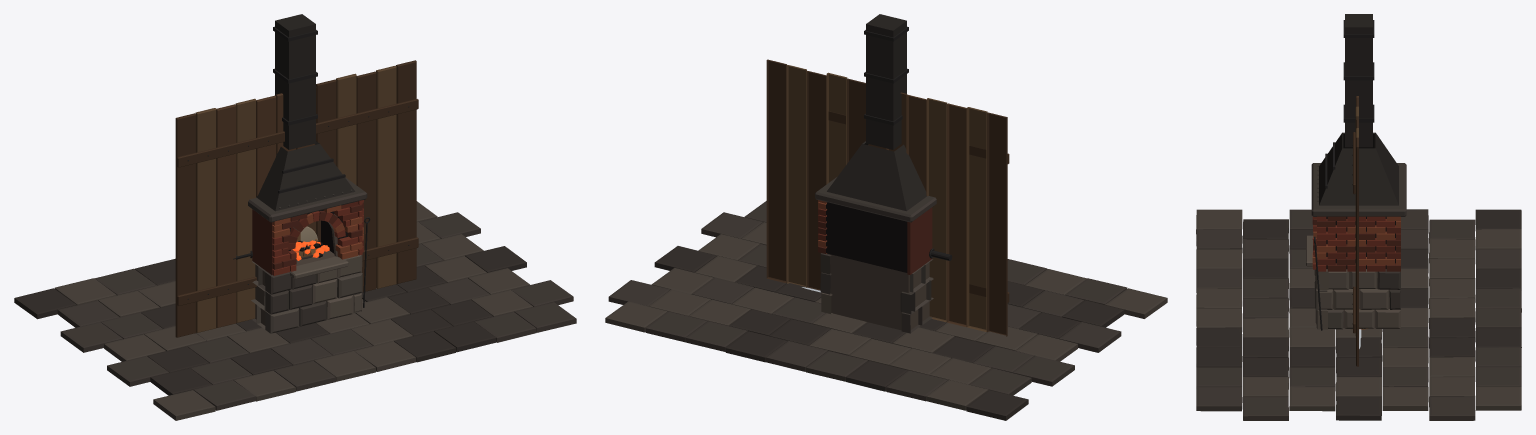
The model's file is forja.glb.
The picture shows the model from 3 angles, left to right: view 1: azimuth 30°, elevation 25°; view 2: azimuth 150°, elevation 25°; view 3: azimuth 270°, elevation 25°; orthographic projection.
Parts seen in each view (by area): view 1: Suelo, Pared, Fragua; view 2: Suelo, Pared, Fragua; view 3: Suelo, Fragua, Pared.
Boxes of the visible parts, left/top/right/bottom form: Suelo: left=14, top=201, right=576, bottom=420; Pared: left=175, top=60, right=418, bottom=337; Fragua: left=233, top=14, right=370, bottom=333; Suelo: left=605, top=201, right=1167, bottom=420; Pared: left=766, top=59, right=1009, bottom=336; Fragua: left=815, top=14, right=952, bottom=333; Suelo: left=1196, top=209, right=1521, bottom=420; Fragua: left=1306, top=14, right=1406, bottom=330; Pared: left=1352, top=96, right=1358, bottom=366.
Size of the model in its own units: 5.25 by 3.95 by 3.5.
